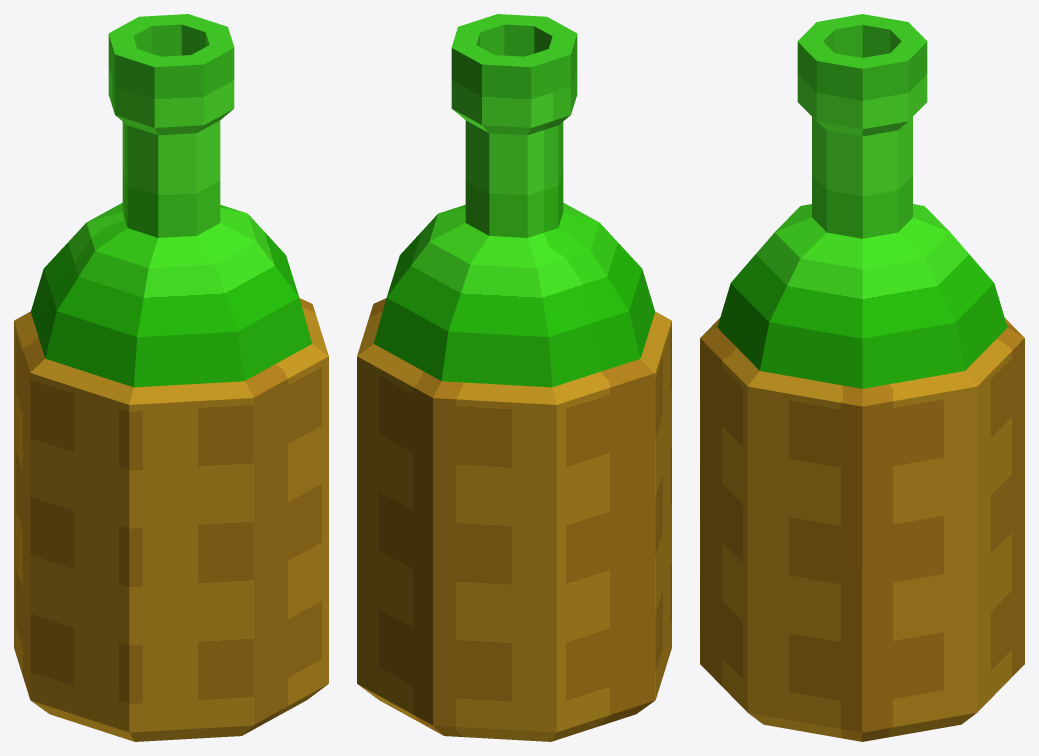
File: green_bottle.glb
3 renders of one model, left to right at view 1: azimuth 30°, elevation 25°; view 2: azimuth 150°, elevation 25°; view 3: azimuth 270°, elevation 25°, orthographic.
Parts seen in each view (by area): view 1: Green_Bottle; view 2: Green_Bottle; view 3: Green_Bottle.
Boxes of the visible parts, box(x1,y1,x2,y2) form: Green_Bottle: box(14, 14, 328, 741); Green_Bottle: box(357, 14, 671, 741); Green_Bottle: box(700, 14, 1024, 741).
Size of the model in its own units: 0.3174 by 0.6918 by 0.3174.
1 material, 1 textured.
